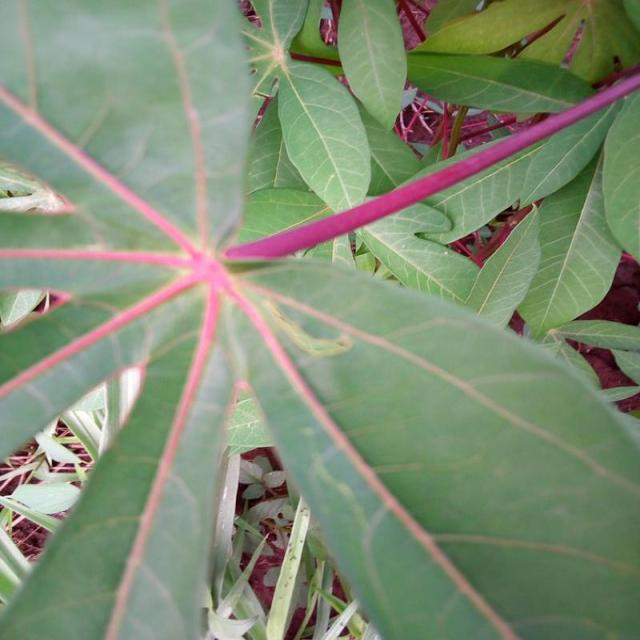cassava leaf: (1, 0, 638, 638), (220, 255, 638, 638)
